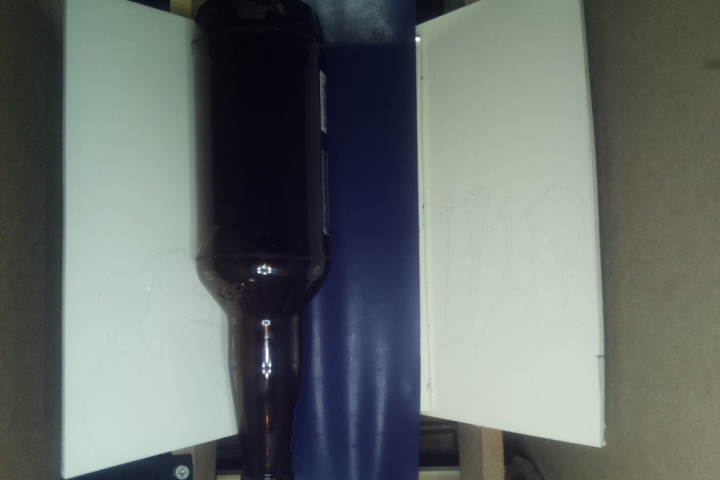makju: (189, 3, 330, 480)
